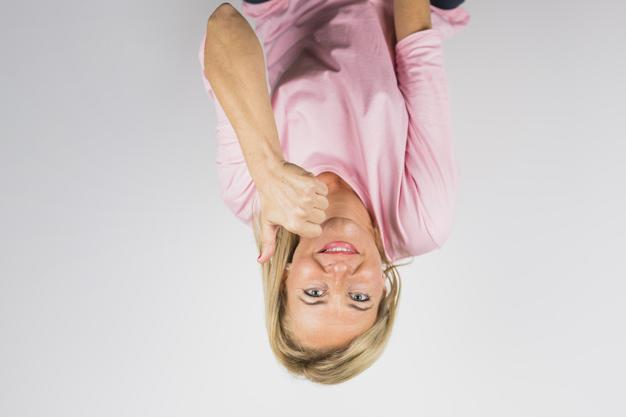thumbsdown: (257, 179, 329, 264)
